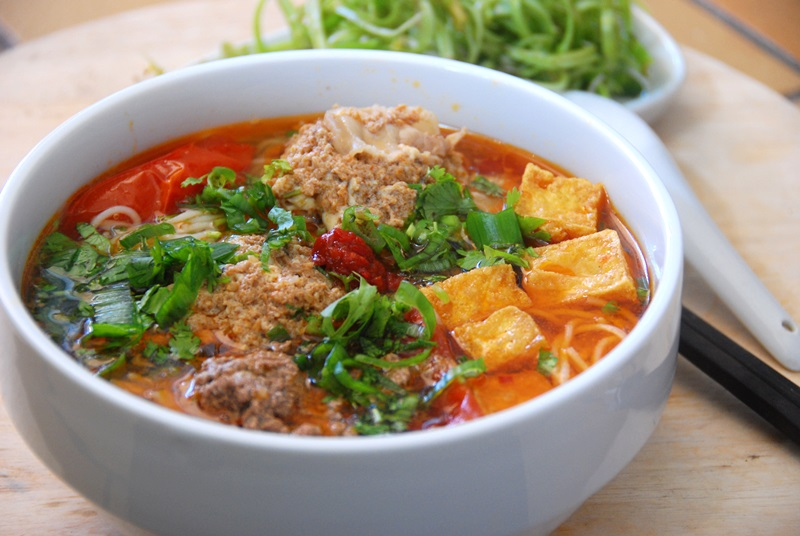onion: (47, 236, 179, 346), (420, 175, 511, 257)
rieu: (214, 234, 327, 345), (192, 346, 317, 437), (301, 138, 413, 227)
tofu: (417, 261, 539, 363), (516, 237, 644, 311), (511, 155, 610, 239)
tomato: (75, 147, 243, 214)
